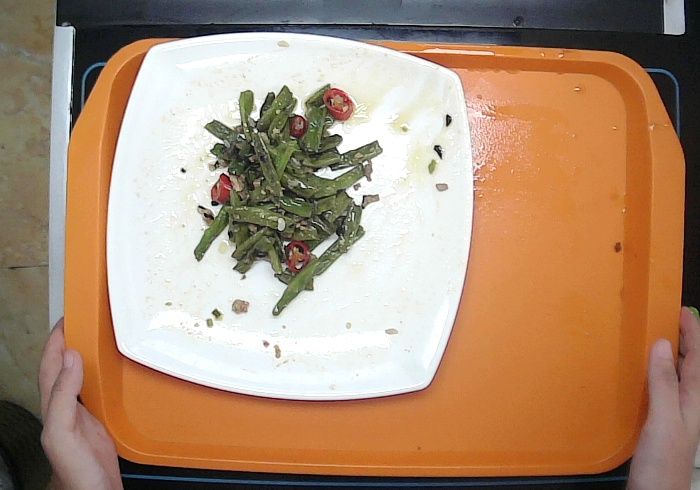ZNLD-Bai_Fang_Pan: (106, 32, 487, 401)
